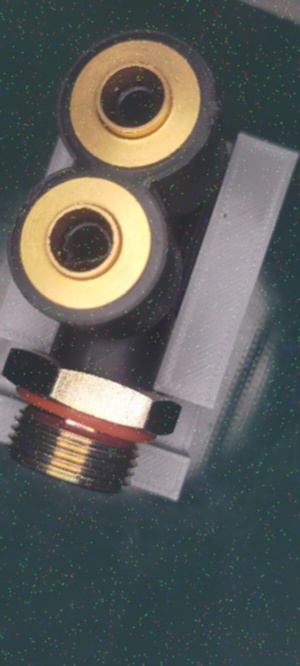bump: (208, 79, 226, 124)
off-centered: (55, 214, 114, 268)
white mark: (95, 345, 120, 368), (84, 348, 93, 372)
